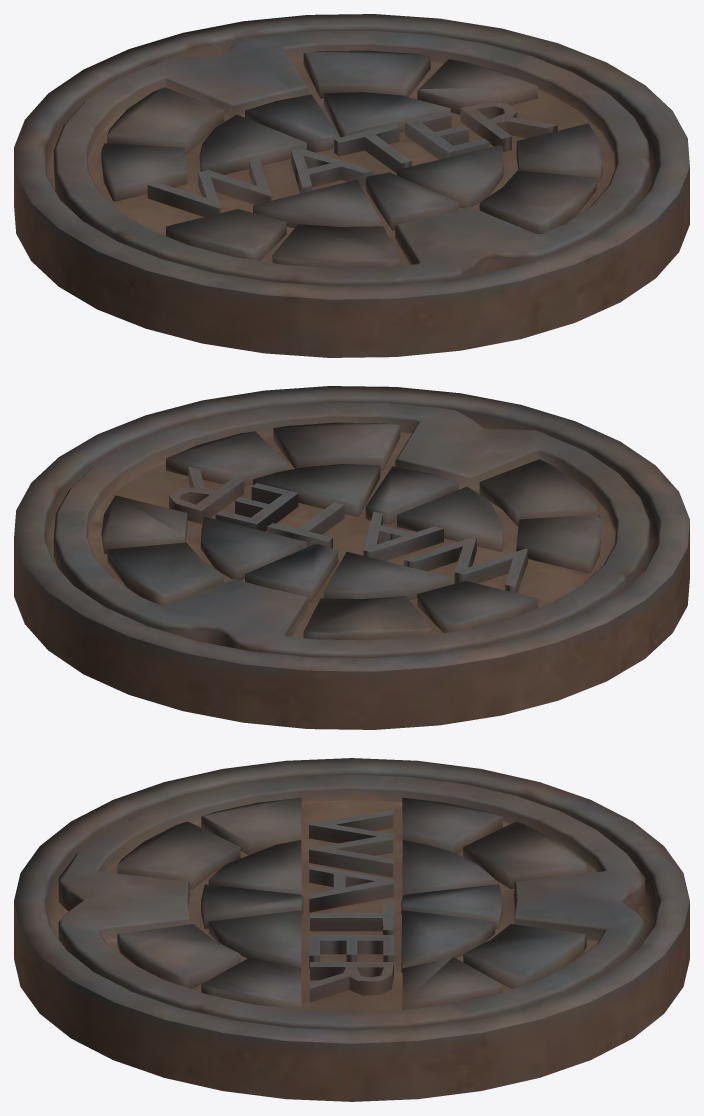
File: water_manhole_cover.glb
3 renders of one model, top to bottom at view 1: azimuth 30°, elevation 25°; view 2: azimuth 150°, elevation 25°; view 3: azimuth 270°, elevation 25°, orthographic.
Parts seen in each view (by area): view 1: water_manhole_cover, water_manhole_cover_frame; view 2: water_manhole_cover, water_manhole_cover_frame; view 3: water_manhole_cover, water_manhole_cover_frame.
Boxes of the visible parts, x1,y1,x2,y2 form: water_manhole_cover: (53,30,650,286); water_manhole_cover_frame: (14,14,689,357); water_manhole_cover: (53,402,650,658); water_manhole_cover_frame: (14,386,689,729); water_manhole_cover: (58,774,645,1030); water_manhole_cover_frame: (14,758,689,1101).
Bounding box in the file's own units: 0.6908 × 0.0676 × 0.6908.
Materials: 1 (1 with a texture image).
